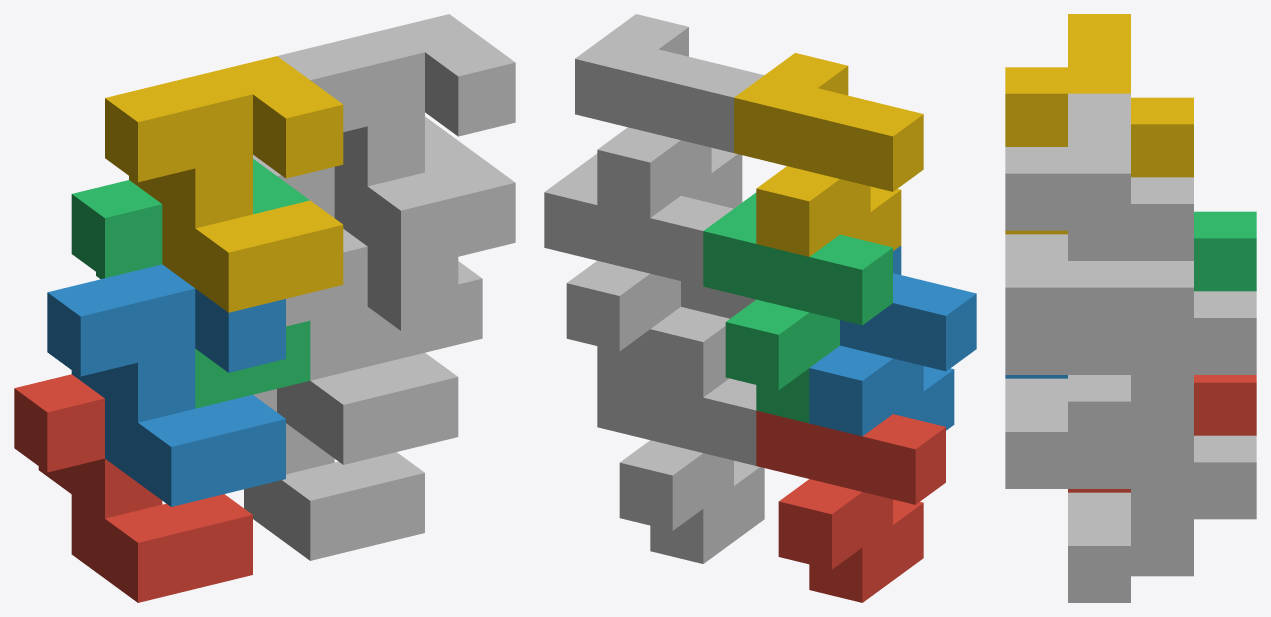
The model's file is tiling.obj.
3 views of the same model, side by side, from view 1: azimuth 30°, elevation 25°; view 2: azimuth 150°, elevation 25°; view 3: azimuth 270°, elevation 25° (orthographic). The views are drawn at different scales.
Visible parts, largest first — view 1: copy_1_domain_4, copy_1_domain_2, copy_1_domain_8, copy_1_domain_6, copy_1_domain_1, copy_1_domain_5, copy_1_domain_3, copy_1_domain_7; view 2: copy_1_domain_4, copy_1_domain_8, copy_1_domain_1, copy_1_domain_5, copy_1_domain_3, copy_1_domain_7, copy_1_domain_2, copy_1_domain_6; view 3: copy_1_domain_8, copy_1_domain_7, copy_1_domain_5, copy_1_domain_4, copy_1_domain_6, copy_1_domain_3, copy_1_domain_1.
Boxes of the visible parts, x1=… form: copy_1_domain_4: x1=105, y1=56, x2=343, y2=312; copy_1_domain_2: x1=47, y1=264, x2=285, y2=506; copy_1_domain_8: x1=277, y1=14, x2=515, y2=270; copy_1_domain_6: x1=277, y1=229, x2=458, y2=464; copy_1_domain_1: x1=14, y1=374, x2=252, y2=602; copy_1_domain_5: x1=244, y1=389, x2=424, y2=560; copy_1_domain_3: x1=71, y1=159, x2=310, y2=408; copy_1_domain_7: x1=253, y1=116, x2=482, y2=366; copy_1_domain_4: x1=734, y1=53, x2=923, y2=256; copy_1_domain_8: x1=575, y1=14, x2=764, y2=217; copy_1_domain_1: x1=756, y1=410, x2=945, y2=602; copy_1_domain_5: x1=597, y1=372, x2=764, y2=563; copy_1_domain_3: x1=703, y1=192, x2=892, y2=423; copy_1_domain_7: x1=544, y1=154, x2=733, y2=384; copy_1_domain_2: x1=809, y1=245, x2=976, y2=436; copy_1_domain_6: x1=650, y1=281, x2=755, y2=397; copy_1_domain_8: x1=1005, y1=93, x2=1193, y2=344; copy_1_domain_7: x1=1068, y1=261, x2=1256, y2=458; copy_1_domain_5: x1=1068, y1=432, x2=1256, y2=602; copy_1_domain_4: x1=1005, y1=14, x2=1193, y2=234; copy_1_domain_6: x1=1005, y1=344, x2=1130, y2=488; copy_1_domain_3: x1=1194, y1=211, x2=1256, y2=291; copy_1_domain_1: x1=1068, y1=375, x2=1256, y2=492.
Bounding box in the file's own units: 7 × 8 × 4.
